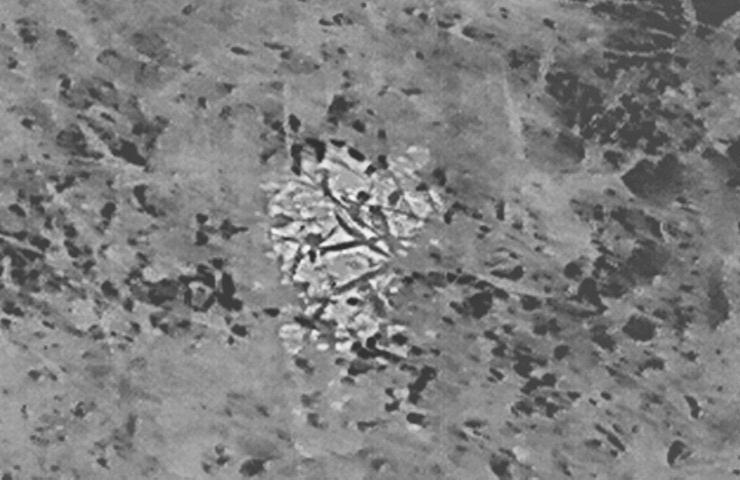landmines: (276, 142, 447, 356)
